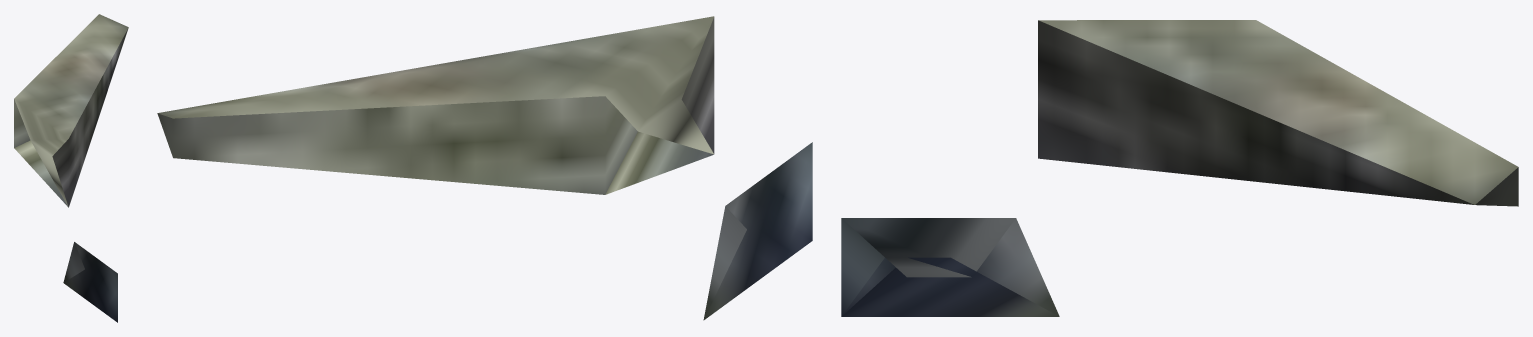
3 views of the same model, side by side, from view 1: azimuth 30°, elevation 25°; view 2: azimuth 150°, elevation 25°; view 3: azimuth 270°, elevation 25° (orthographic). The views are drawn at different scales.
Parts seen in each view (by area): view 1: 3043627270437042445_0; view 2: 3043627270437042445_0; view 3: 3043627270437042445_0.
Part boxes in pixels (box(x1,y1,x2,y2)): 3043627270437042445_0: box(14, 14, 128, 322); 3043627270437042445_0: box(157, 16, 812, 320); 3043627270437042445_0: box(841, 20, 1518, 316).
Bounding box in the file's own units: 5.52 × 4.62 × 9.57.
1 material, 1 textured.
